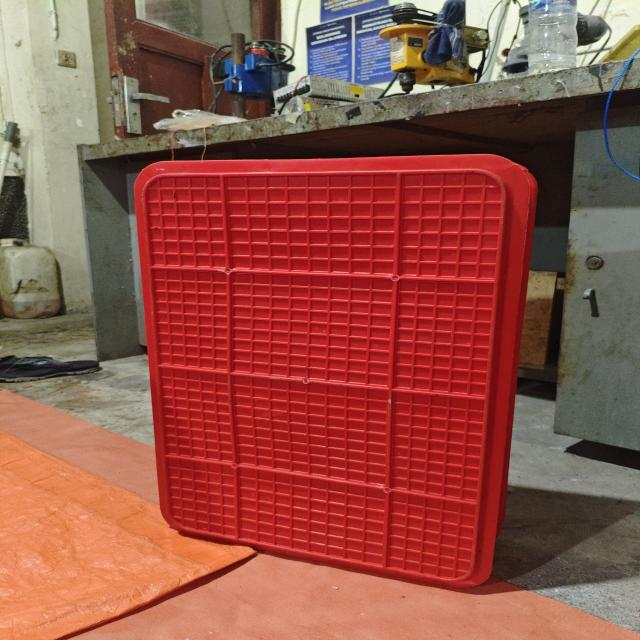red plastic box: (133, 154, 539, 589)
